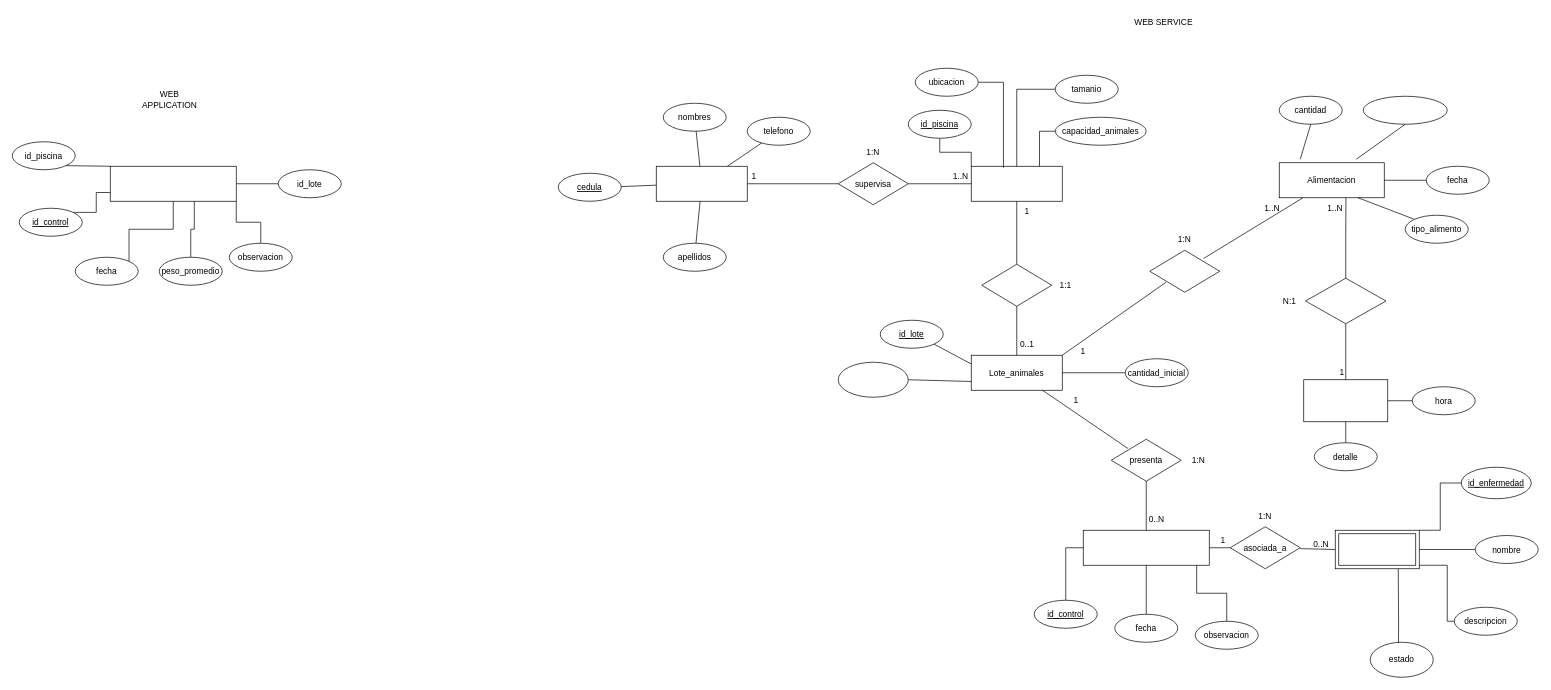
Image size: 1551x690. Some labels were removed from this diagram. Each missing label, with the centre of its shape:
contiene: the point at 1016,285
Control_Crecimiento: the point at 173,183
Control_Sanitario: the point at 1146,547
corresponde_a: the point at 1345,301
Encargado: the point at 701,183
Enfermedad: the point at 1377,549
fecha_siembra: the point at 873,379
Horario: the point at 1345,400
id_alimentacion: the point at 1405,110
Piscina: the point at 1016,183
tiene: the point at 1184,271
